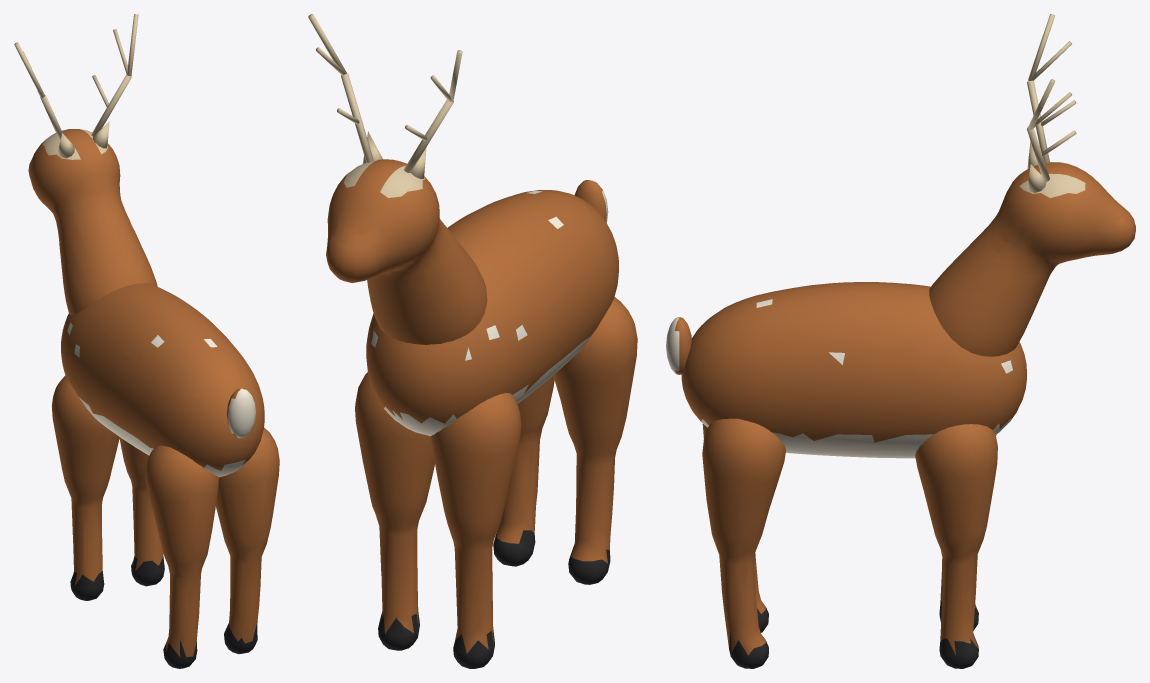
The model's file is animal_deer.glb.
3 views of the same model, side by side, from view 1: azimuth 30°, elevation 25°; view 2: azimuth 150°, elevation 25°; view 3: azimuth 270°, elevation 25° (orthographic). The views are drawn at different scales.
Parts seen in each view (by area): view 1: Body, Head, LegBL, LegBR, LegFL, LegFR, Tail; view 2: Body, Head, LegFL, LegBL, LegFR, LegBR, Tail; view 3: Body, Head, LegBR, LegFR, Tail.
Boxes of the visible parts, x1,y1,x2,y2 form: Body: [61, 283, 264, 477]; Head: [14, 14, 157, 315]; LegBL: [145, 445, 218, 668]; LegBR: [216, 427, 279, 654]; LegFL: [51, 375, 119, 600]; LegFR: [119, 437, 164, 586]; Tail: [226, 388, 255, 438]; Body: [366, 190, 618, 435]; Head: [308, 14, 487, 344]; LegFL: [430, 393, 521, 668]; LegBL: [553, 297, 637, 584]; LegFR: [355, 372, 434, 650]; LegBR: [493, 375, 554, 566]; Tail: [574, 180, 608, 222]; Body: [681, 282, 1026, 458]; Head: [929, 14, 1135, 356]; LegBR: [702, 418, 785, 668]; LegFR: [915, 424, 997, 668]; Tail: [666, 317, 691, 374].
Bounding box in the file's own units: 0.616 × 2.53 × 1.78.
